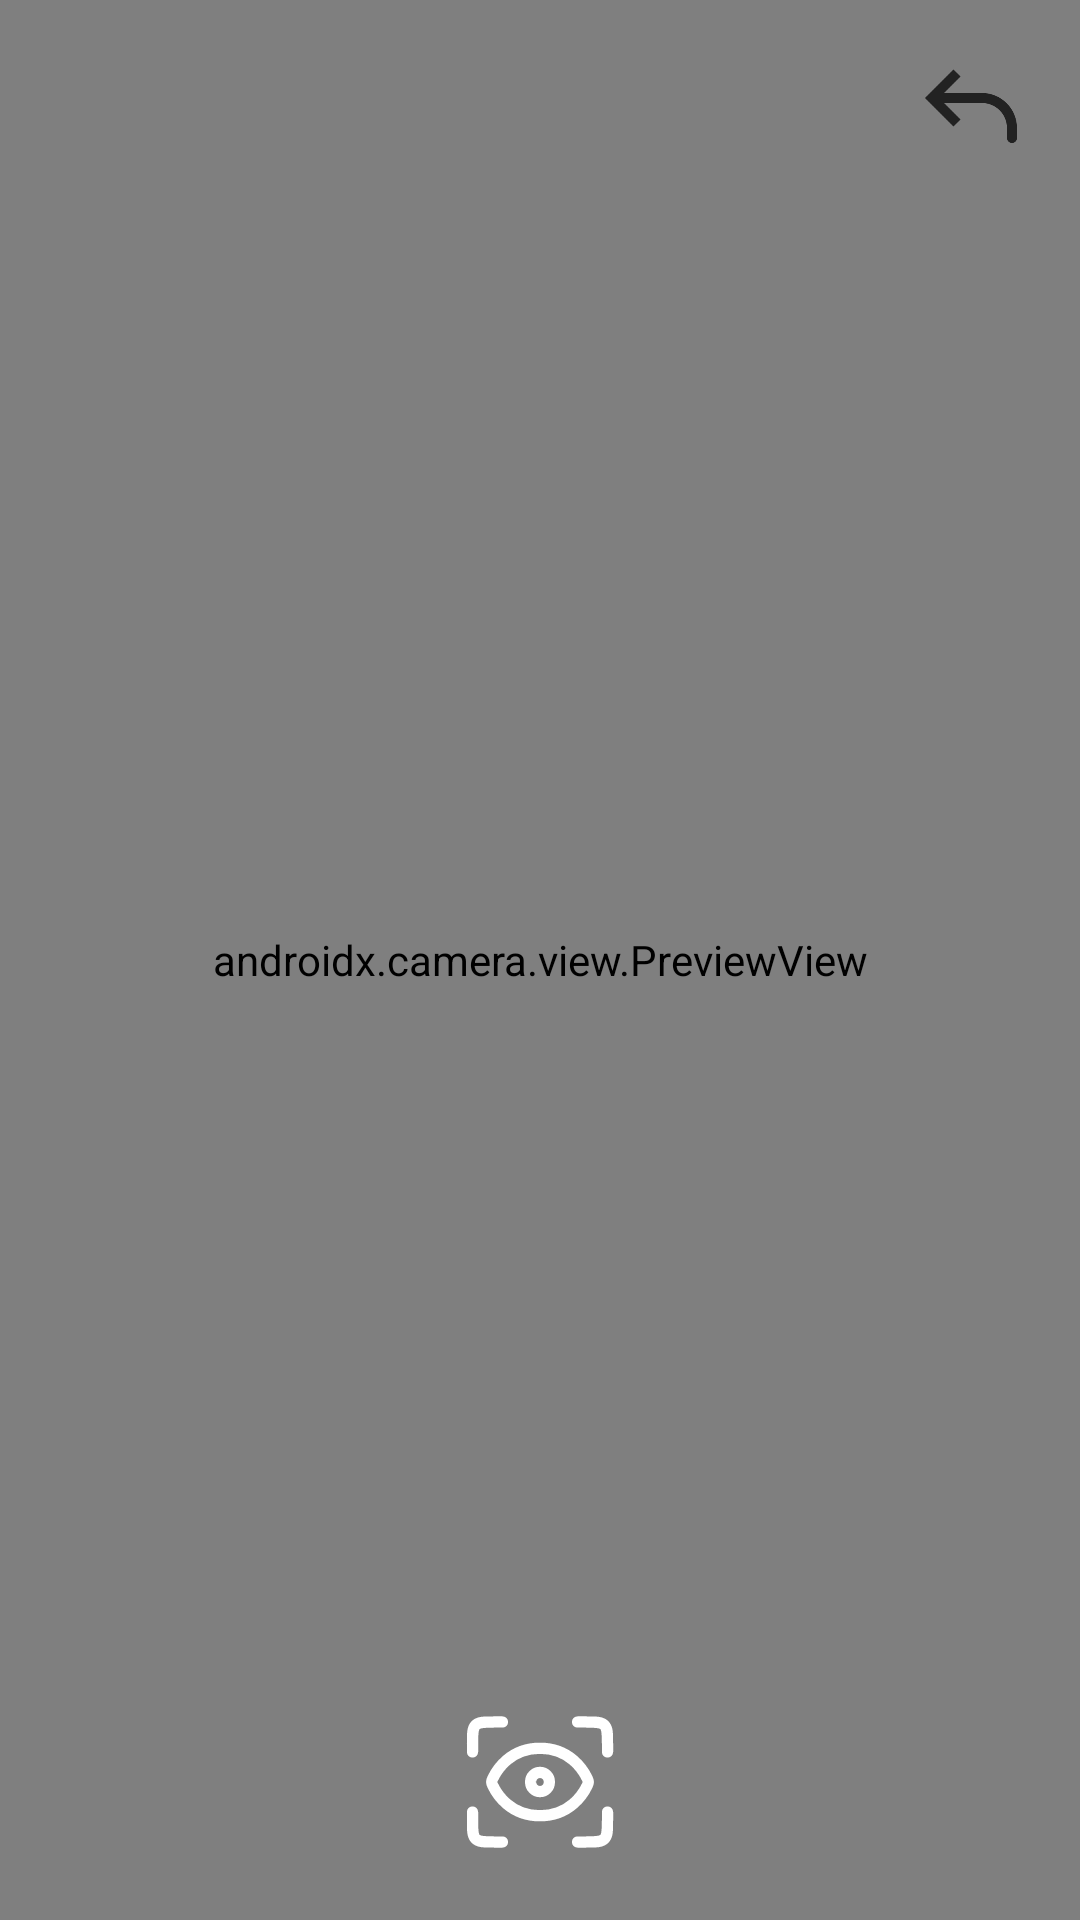

Icon bounding boxes for this 1080w x 1920h phone screenshot, format rect(x1, y1, x2, y2):
back: rect(925, 70, 1017, 143)
scan: rect(467, 1716, 614, 1848)
